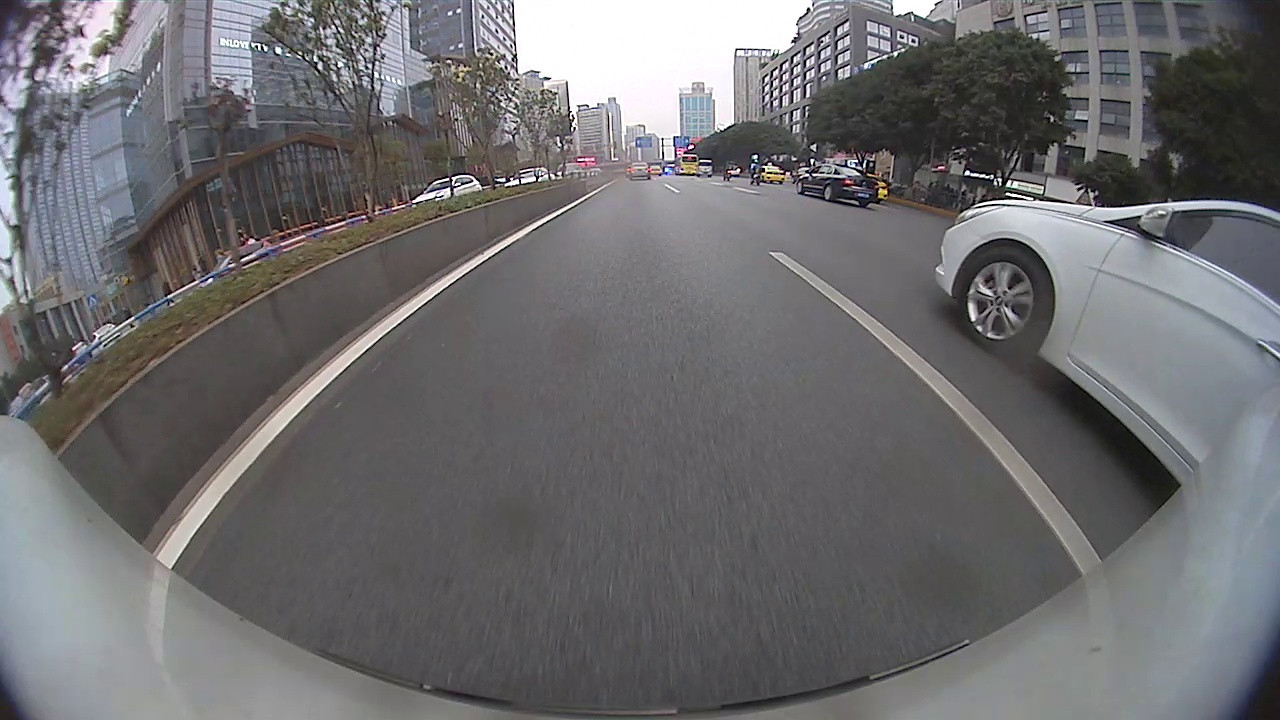car: (932, 196, 1279, 489), (794, 161, 882, 210), (408, 172, 485, 212)
front: (954, 243, 1054, 356)
rear: (824, 185, 836, 204)
